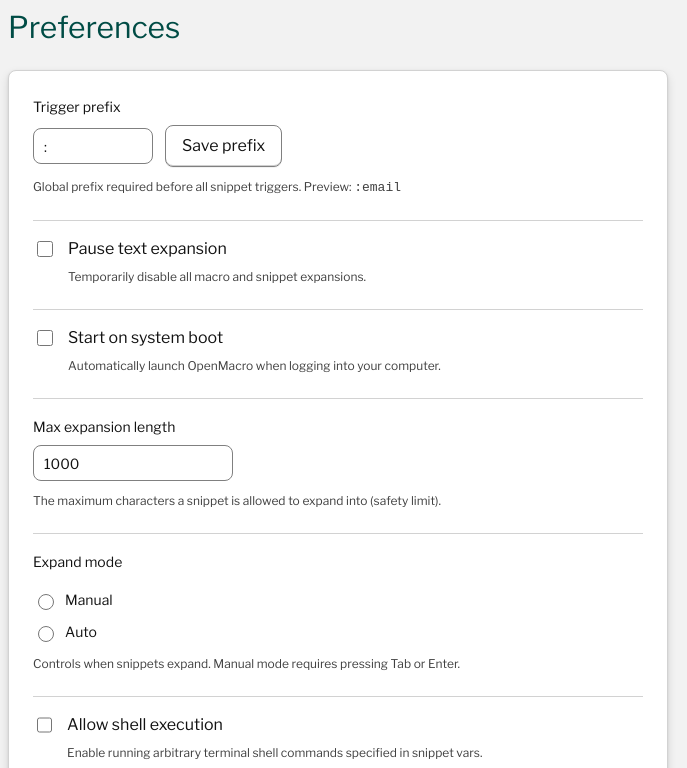
Test case: PrefsPanel › autostart save failure rolls back toggle and shows error
Click the checkbox labelled "Start on system boot" at (45,338), box 37,330 -> 53,346
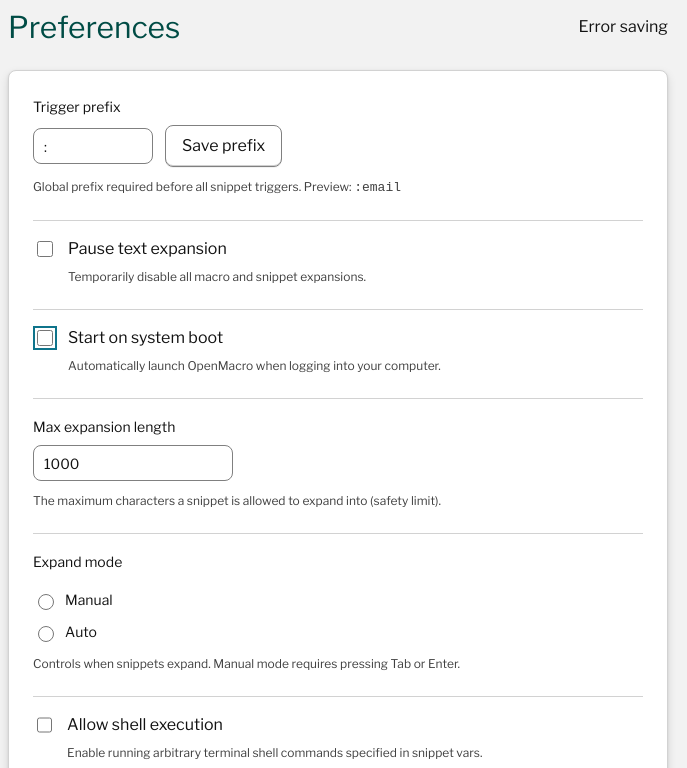
Now the text "Error saving" is shown, box 578,15 -> 668,39
